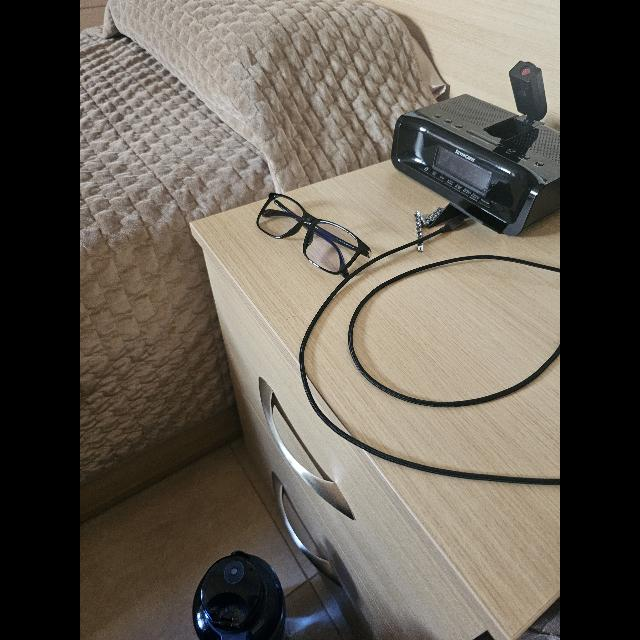glasses: (256, 193, 370, 277)
